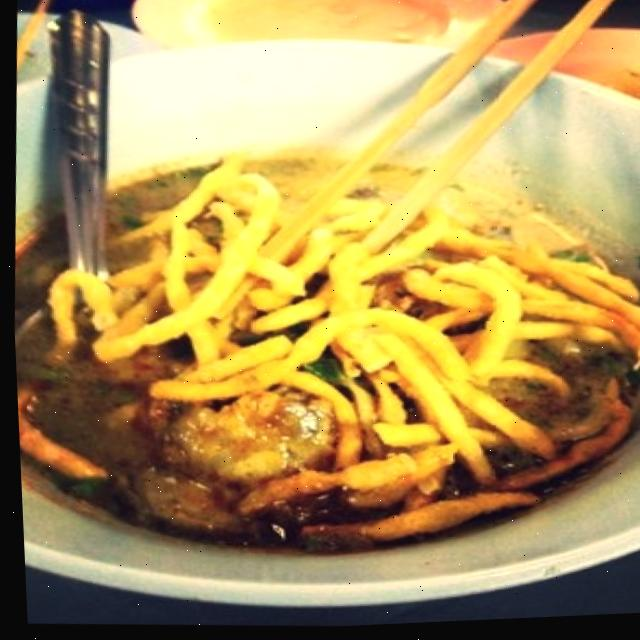面条主食: (16, 16, 634, 591)
